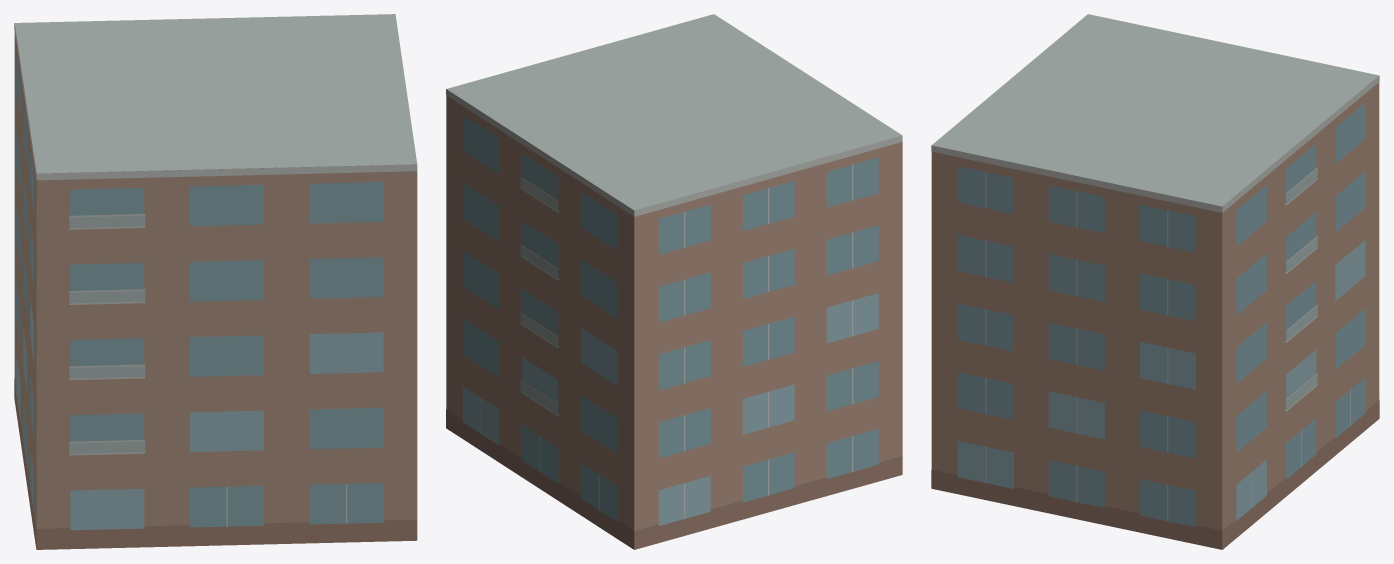
The model's file is survey-upis-32882620.glb.
The picture shows the model from 3 angles, left to right: view 1: azimuth 30°, elevation 25°; view 2: azimuth 150°, elevation 25°; view 3: azimuth 270°, elevation 25°; orthographic projection. The views are drawn at different scales.
Visible parts, largest first — view 1: survey-upis-32882620.tmp; view 2: survey-upis-32882620.tmp; view 3: survey-upis-32882620.tmp.
Part boxes in pixels (x1,y1,x2,y2): survey-upis-32882620.tmp: (14, 14, 417, 549); survey-upis-32882620.tmp: (446, 14, 902, 549); survey-upis-32882620.tmp: (931, 14, 1379, 549).
Bounding box in the file's own units: 16.01 × 13.3 × 15.74.
